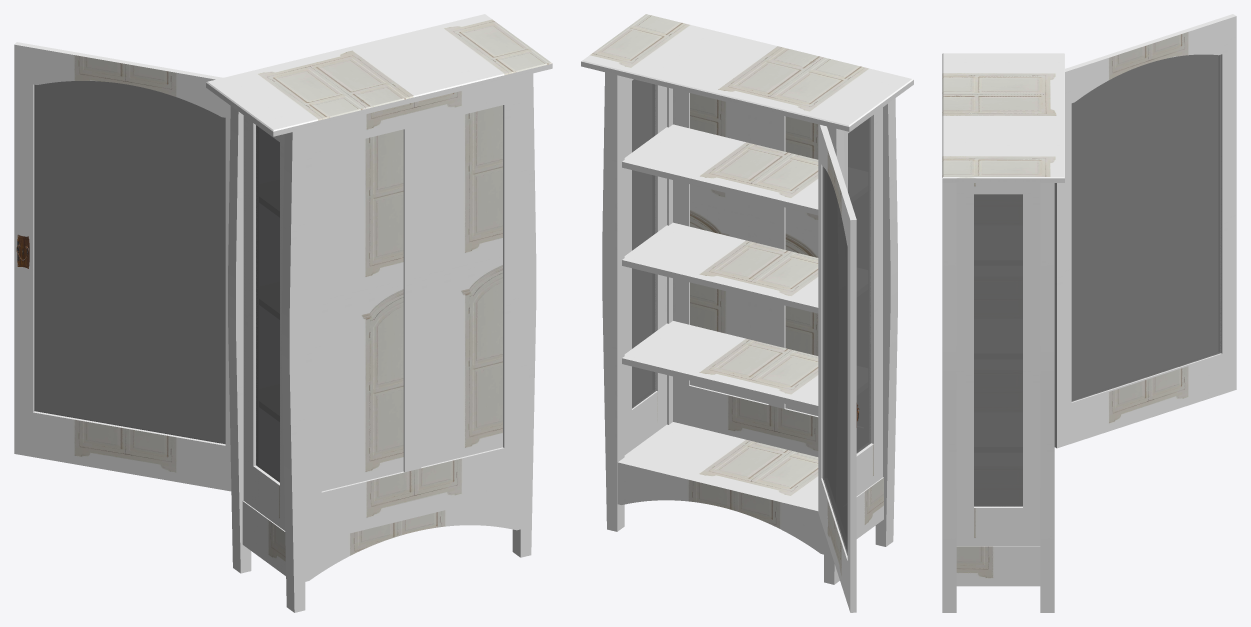
The picture shows the model from 3 angles, left to right: view 1: azimuth 30°, elevation 25°; view 2: azimuth 150°, elevation 25°; view 3: azimuth 270°, elevation 25°; orthographic projection. The views are drawn at different scales.
Parts seen in each view (by area): view 1: mesh15_mesh15-geometry, mesh90_mesh90-geometry, mesh5_mesh5-geometry, mesh3_mesh3-geometry, mesh94_mesh94-geometry, mesh9_mesh9-geometry, mesh116_mesh116-geometry, mesh102_mesh102-geometry, mesh13_mesh13-geometry, mesh86_mesh86-geometry, mesh60_mesh60-geometry, mesh88_mesh88-geometry (+11 smaller); view 2: mesh3_mesh3-geometry, mesh5_mesh5-geometry, mesh1_mesh1-geometry, mesh56_mesh56-geometry, mesh52_mesh52-geometry, mesh62_mesh62-geometry, mesh118_mesh118-geometry, mesh15_mesh15-geometry, mesh50_mesh50-geometry, mesh94_mesh94-geometry, mesh68_mesh68-geometry, mesh102_mesh102-geometry (+18 smaller); view 3: mesh15_mesh15-geometry, mesh3_mesh3-geometry, mesh68_mesh68-geometry, mesh58_mesh58-geometry, mesh76_mesh76-geometry, mesh60_mesh60-geometry, mesh62_mesh62-geometry, mesh9_mesh9-geometry, mesh13_mesh13-geometry, mesh7_mesh7-geometry, mesh11_mesh11-geometry, mesh74_mesh74-geometry (+5 smaller).
Boxes of the visible parts, x1,y1,x2,y2 form: mesh15_mesh15-geometry: [34, 81, 225, 444]; mesh90_mesh90-geometry: [321, 129, 403, 491]; mesh5_mesh5-geometry: [421, 105, 502, 466]; mesh3_mesh3-geometry: [206, 14, 552, 136]; mesh94_mesh94-geometry: [282, 129, 305, 612]; mesh9_mesh9-geometry: [33, 411, 225, 490]; mesh116_mesh116-geometry: [321, 447, 504, 536]; mesh102_mesh102-geometry: [256, 125, 279, 482]; mesh13_mesh13-geometry: [14, 42, 34, 456]; mesh86_mesh86-geometry: [503, 76, 520, 492]; mesh60_mesh60-geometry: [512, 73, 536, 557]; mesh88_mesh88-geometry: [305, 125, 321, 541]; mesh3_mesh3-geometry: [581, 14, 913, 131]; mesh5_mesh5-geometry: [690, 93, 768, 403]; mesh1_mesh1-geometry: [622, 321, 818, 411]; mesh56_mesh56-geometry: [622, 124, 818, 215]; mesh52_mesh52-geometry: [622, 222, 818, 313]; mesh62_mesh62-geometry: [602, 72, 624, 531]; mesh118_mesh118-geometry: [622, 422, 818, 507]; mesh15_mesh15-geometry: [822, 166, 847, 555]; mesh50_mesh50-geometry: [617, 459, 823, 554]; mesh94_mesh94-geometry: [875, 98, 897, 546]; mesh68_mesh68-geometry: [632, 79, 656, 408]; mesh102_mesh102-geometry: [848, 117, 870, 453]; mesh15_mesh15-geometry: [1071, 54, 1221, 401]; mesh3_mesh3-geometry: [942, 53, 1064, 182]; mesh68_mesh68-geometry: [974, 194, 1022, 506]; mesh58_mesh58-geometry: [1023, 183, 1040, 545]; mesh76_mesh76-geometry: [956, 183, 973, 545]; mesh60_mesh60-geometry: [942, 183, 956, 612]; mesh62_mesh62-geometry: [1040, 183, 1054, 612]; mesh9_mesh9-geometry: [1071, 353, 1222, 443]; mesh13_mesh13-geometry: [1219, 14, 1236, 394]; mesh7_mesh7-geometry: [1054, 68, 1071, 448]; mesh11_mesh11-geometry: [1068, 19, 1222, 101]; mesh74_mesh74-geometry: [956, 546, 1040, 586].
Size of the model in its own units: 0.5725 by 0.7032 by 0.4217.
